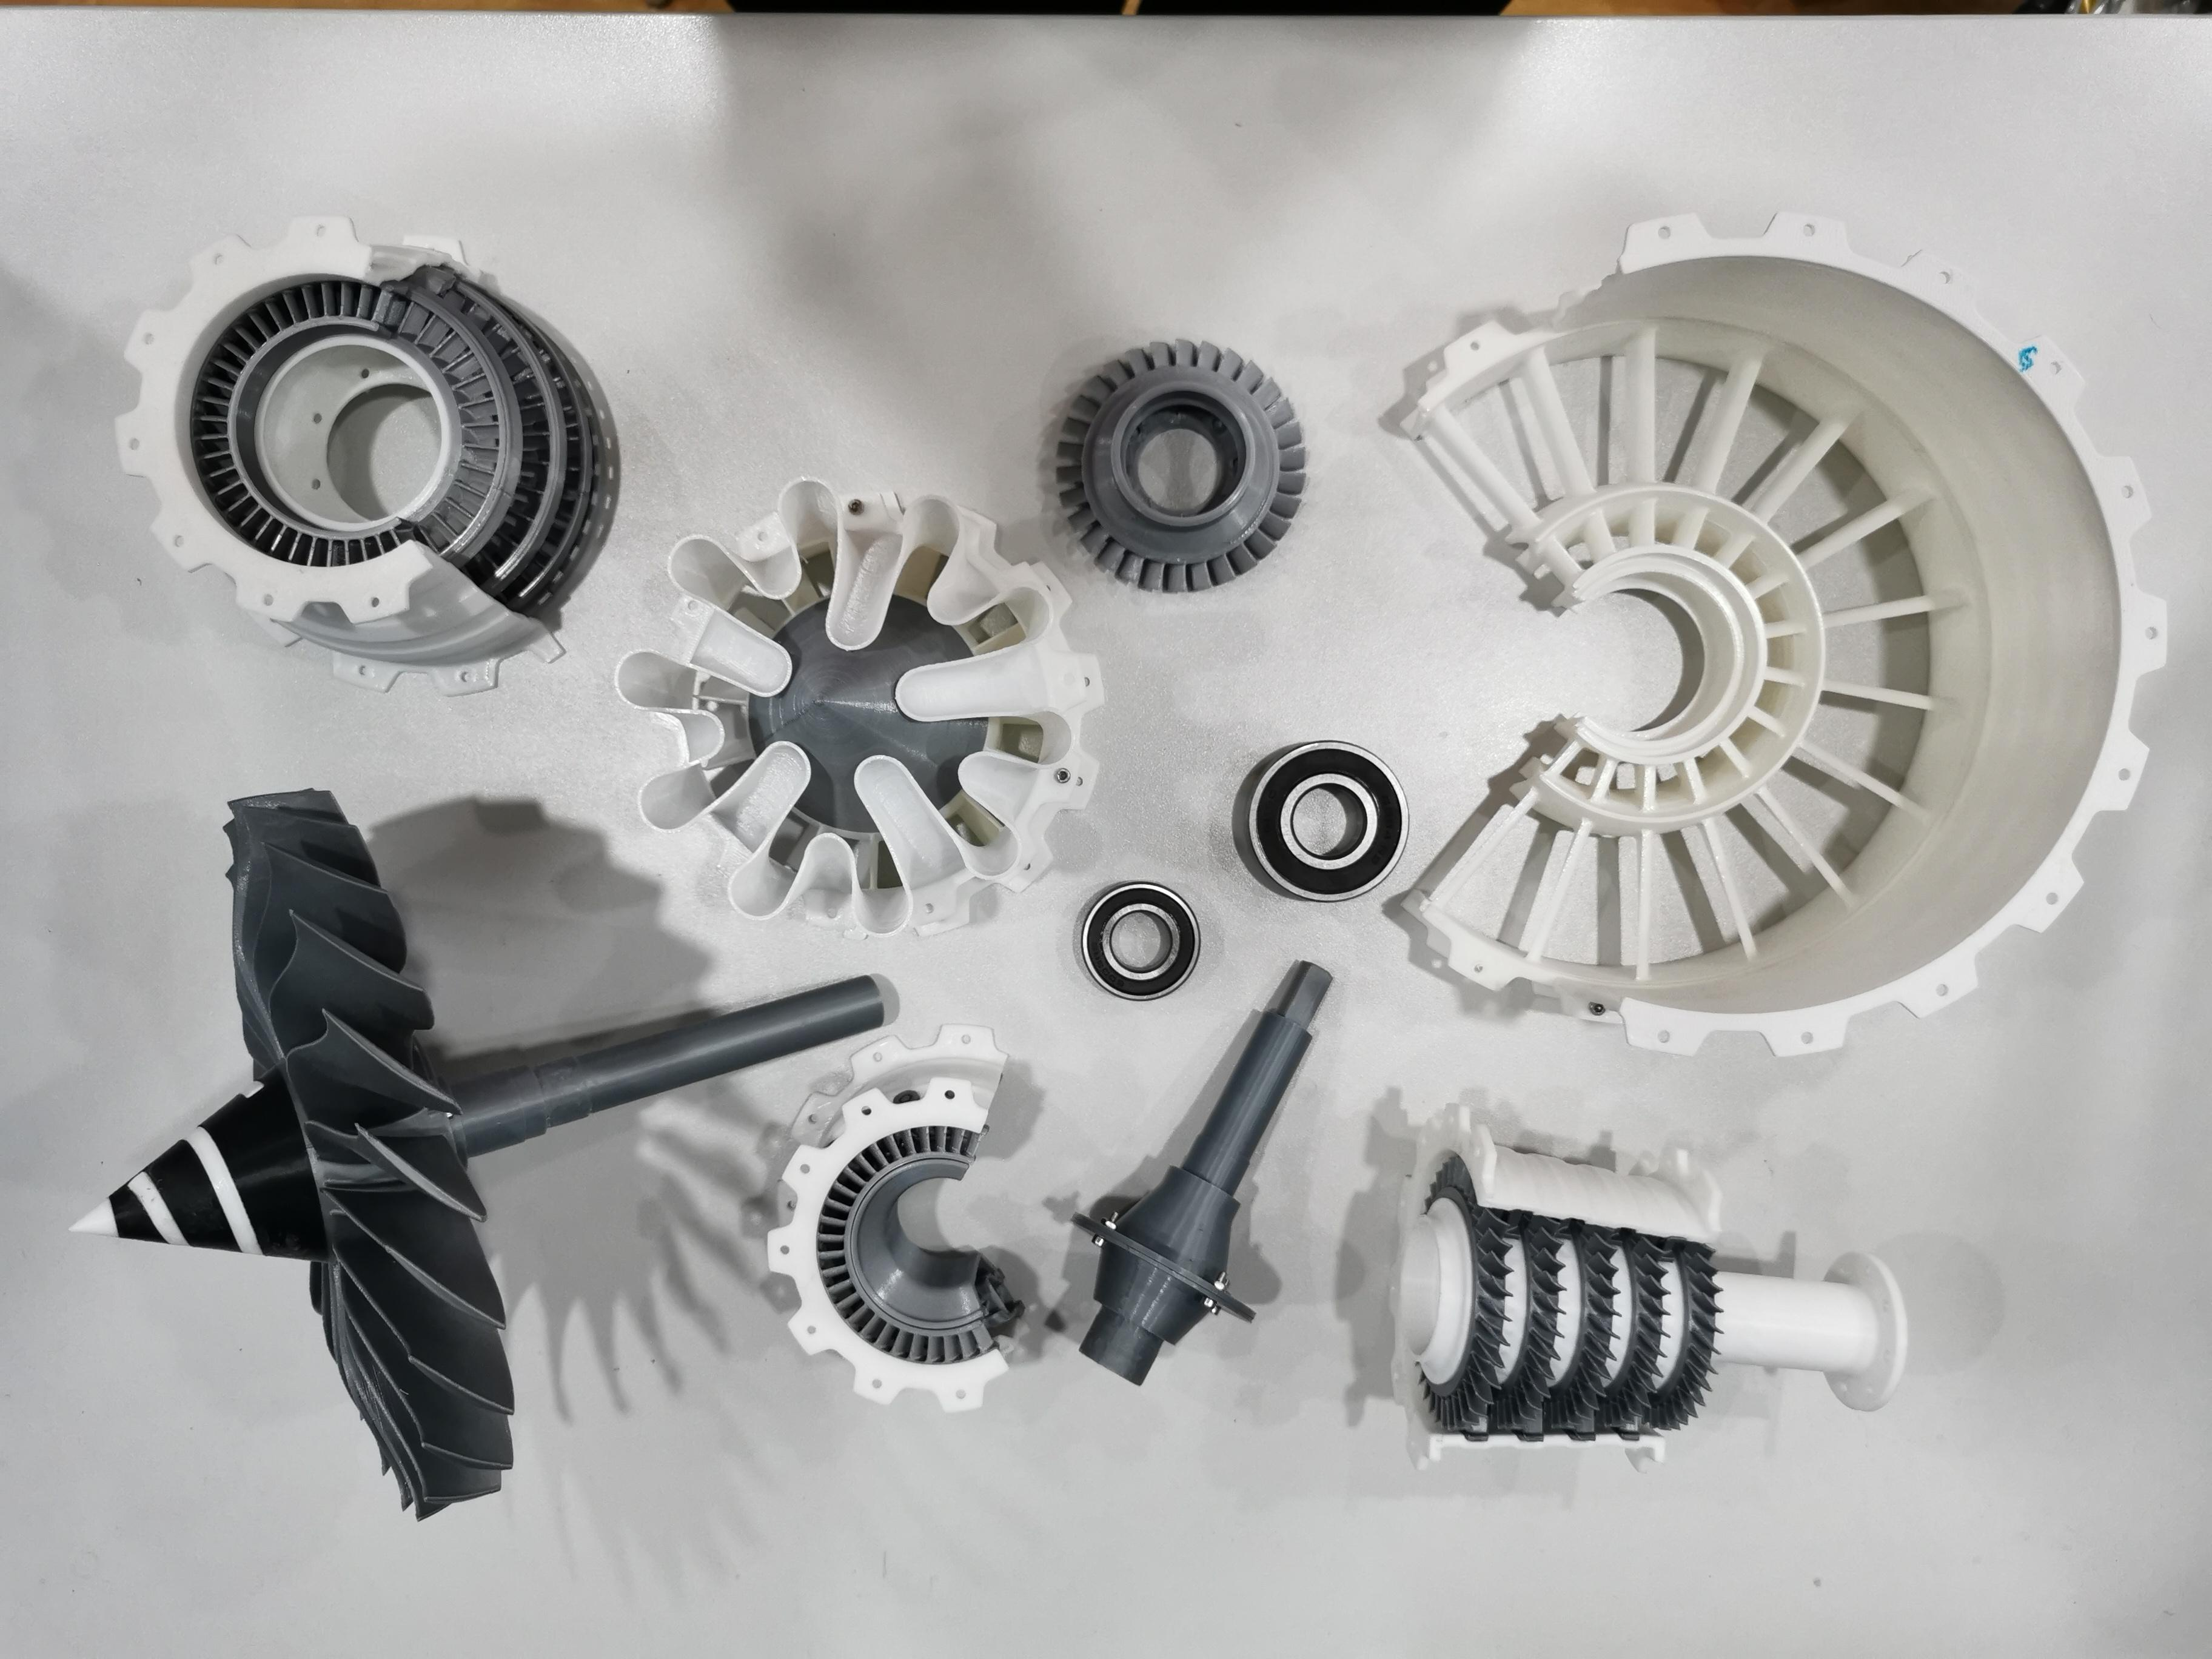Bearing-6003: (1069, 864, 1211, 1016)
Bearing-6204: (1228, 725, 1423, 910)
Combustion Section: (751, 1009, 1043, 1422)
Fan Casing and Support: (1381, 204, 2181, 1066)
Fan and Low Pressure Shaft: (57, 781, 895, 1530)
HPT Section: (1038, 322, 1322, 601)
High Pressure Spool: (1371, 1082, 1921, 1507)
LPT Section: (105, 199, 625, 695)
Low Pressure Spool: (1054, 941, 1357, 1391)
Nozzle Section: (611, 472, 1109, 939)
